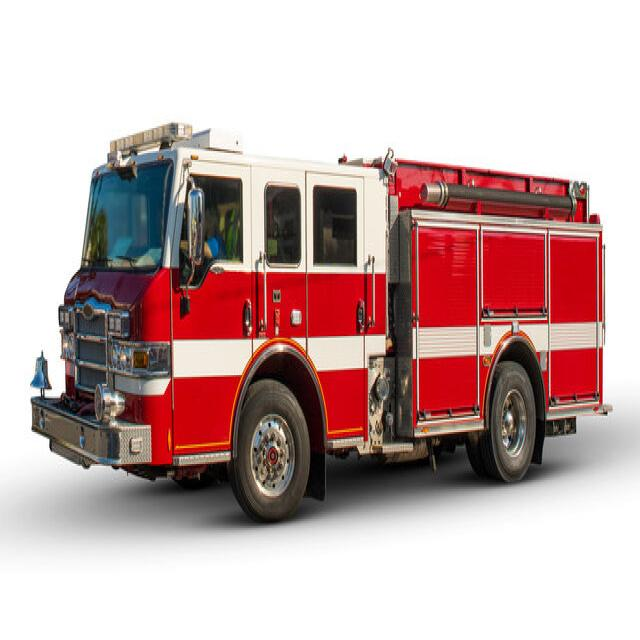emergency: (32, 124, 609, 519)
